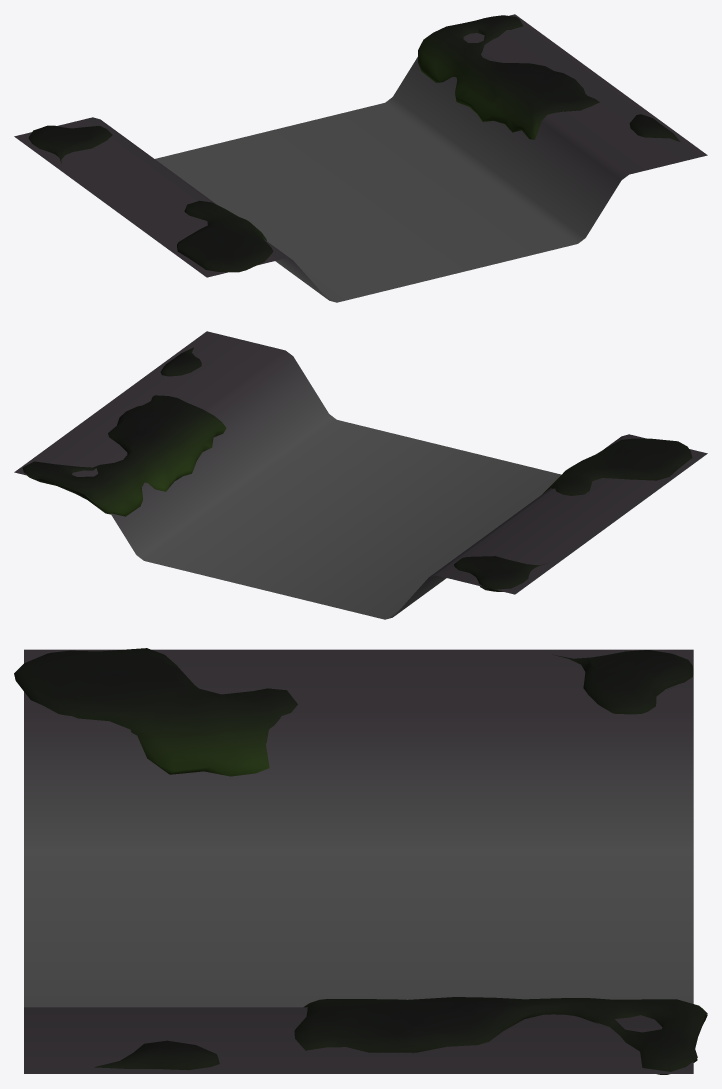
File: SM_Sewer_Ground_03.fbx
3 renders of one model, top to bottom at view 1: azimuth 30°, elevation 25°; view 2: azimuth 150°, elevation 25°; view 3: azimuth 270°, elevation 25°, orthographic. The views are drawn at different scales.
Parts seen in each view (by area): view 1: transform10; view 2: transform10; view 3: transform10.
Part boxes in pixels (left/top/right/bottom): transform10: left=14, top=14, right=707, bottom=302; transform10: left=14, top=331, right=707, bottom=619; transform10: left=14, top=648, right=707, bottom=1074.
Size of the model in its own units: 600 by 74.5 by 415.
